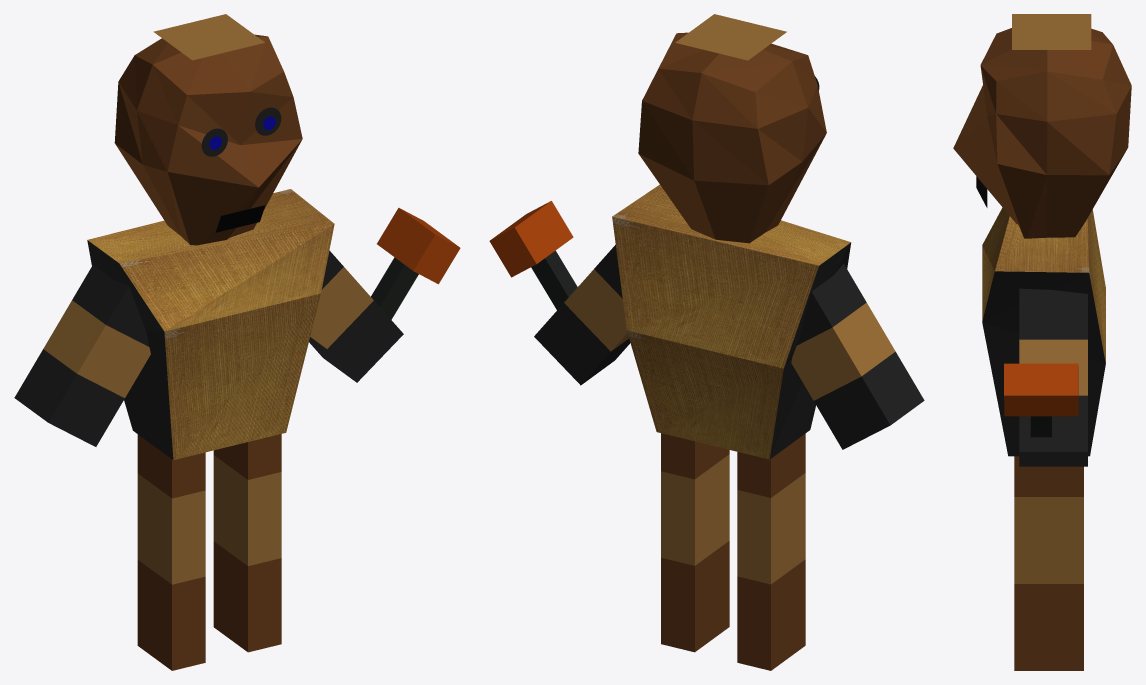
Rendered from servant1.obj.
The picture shows the model from 3 angles, left to right: view 1: azimuth 30°, elevation 25°; view 2: azimuth 150°, elevation 25°; view 3: azimuth 270°, elevation 25°; orthographic projection.
Visible parts, largest first — view 1: Cube.001; view 2: Cube.001; view 3: Cube.001.
Part boxes in pixels (x1=…): Cube.001: x1=14, y1=14, x2=460, y2=670; Cube.001: x1=489, y1=14, x2=924, y2=670; Cube.001: x1=953, y1=14, x2=1131, y2=670.
Size of the model in its own units: 4.16 by 5.96 by 1.57.
